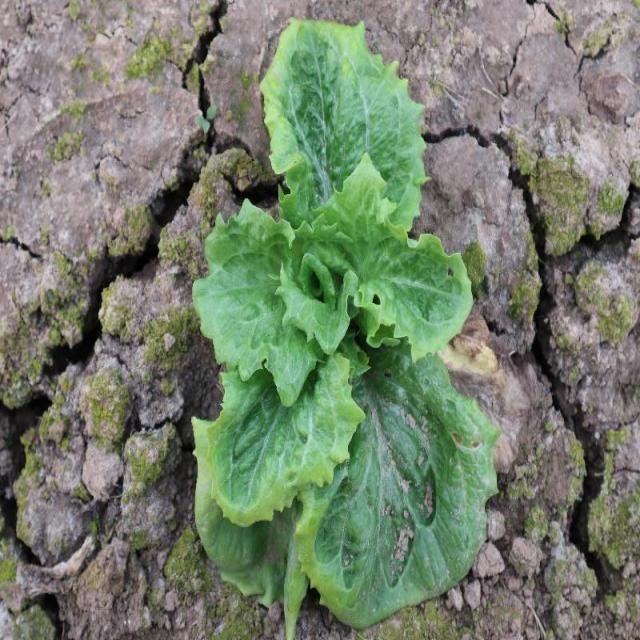crop: (191, 15, 500, 632)
